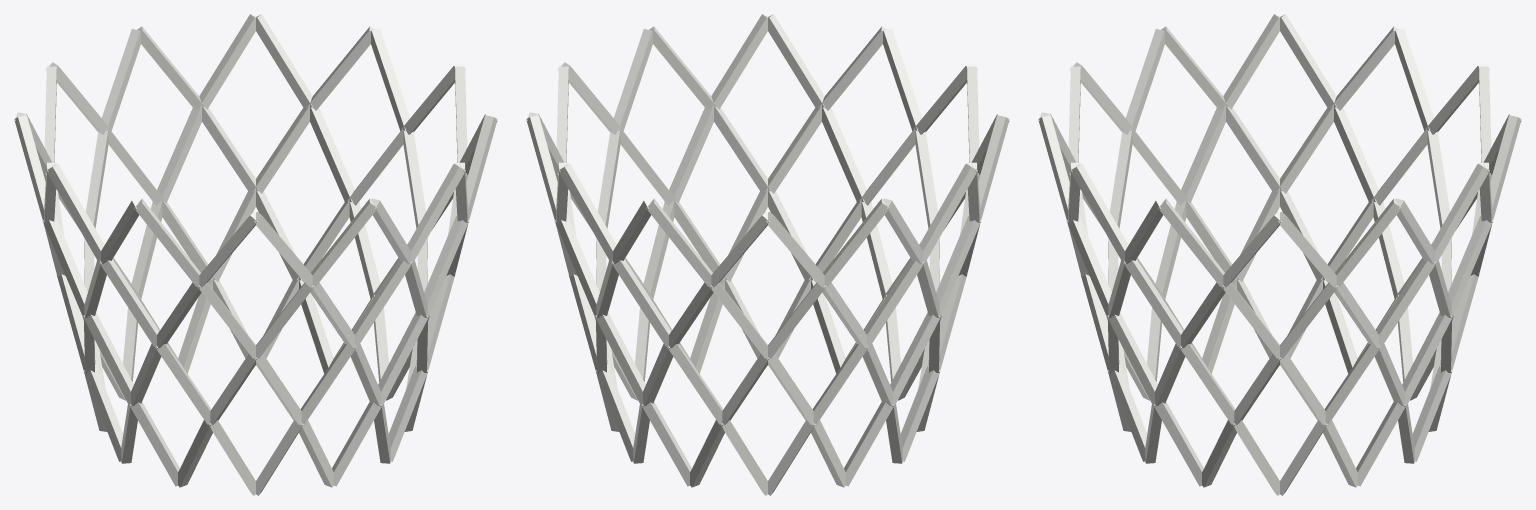
File: net.glb
3 views of the same model, side by side, from view 1: azimuth 30°, elevation 25°; view 2: azimuth 150°, elevation 25°; view 3: azimuth 270°, elevation 25° (orthographic).
Visible parts, largest first — view 1: jam_net_body; view 2: jam_net_body; view 3: jam_net_body.
Part boxes in pixels (left/top/right/bottom): jam_net_body: left=14, top=14, right=497, bottom=495; jam_net_body: left=526, top=14, right=1009, bottom=495; jam_net_body: left=1038, top=14, right=1521, bottom=495.
Bounding box in the file's own units: 0.6776 × 0.4875 × 0.6776.
1 material, 1 textured.
